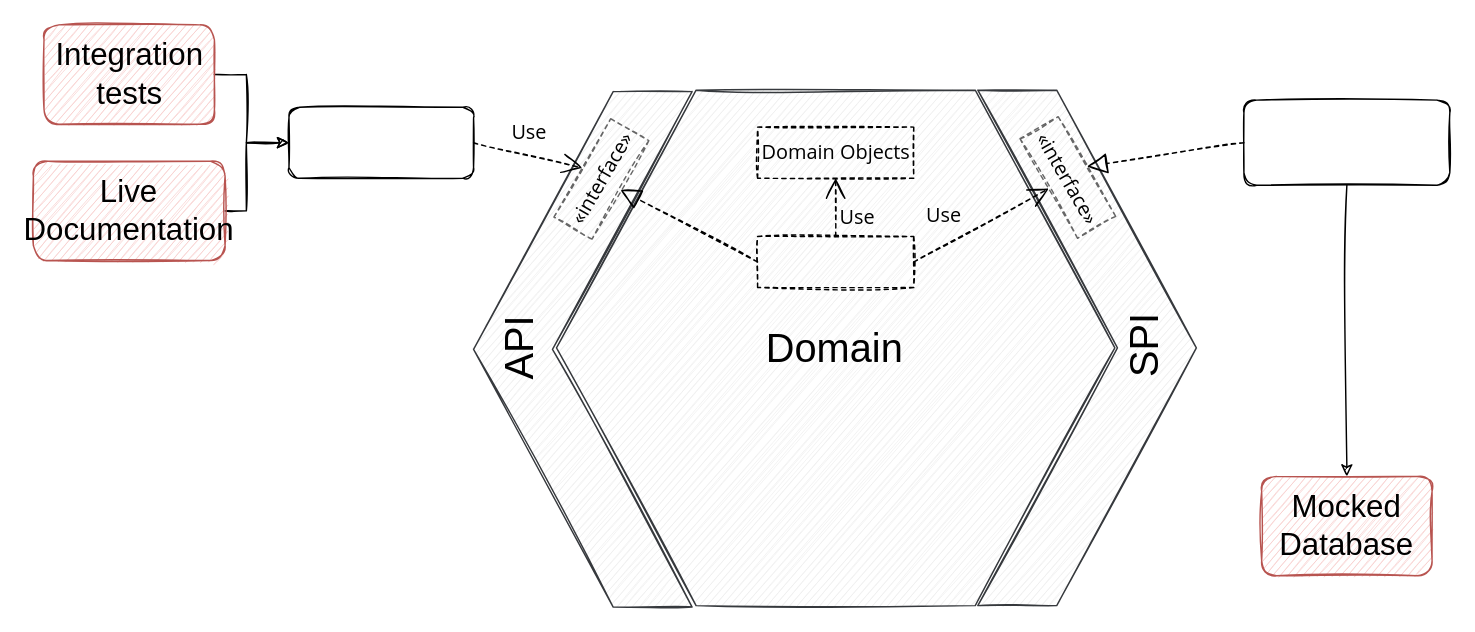
This 1475x632 diagram has some shape labels left out. The shapes that lost their labels are listed below. From the top down, each one's box as (x1, y1, x2, y2) in pixels, then its label:
(288, 106, 474, 178): Controller
(1242, 99, 1450, 185): Persistence
(756, 235, 914, 288): Implementation
